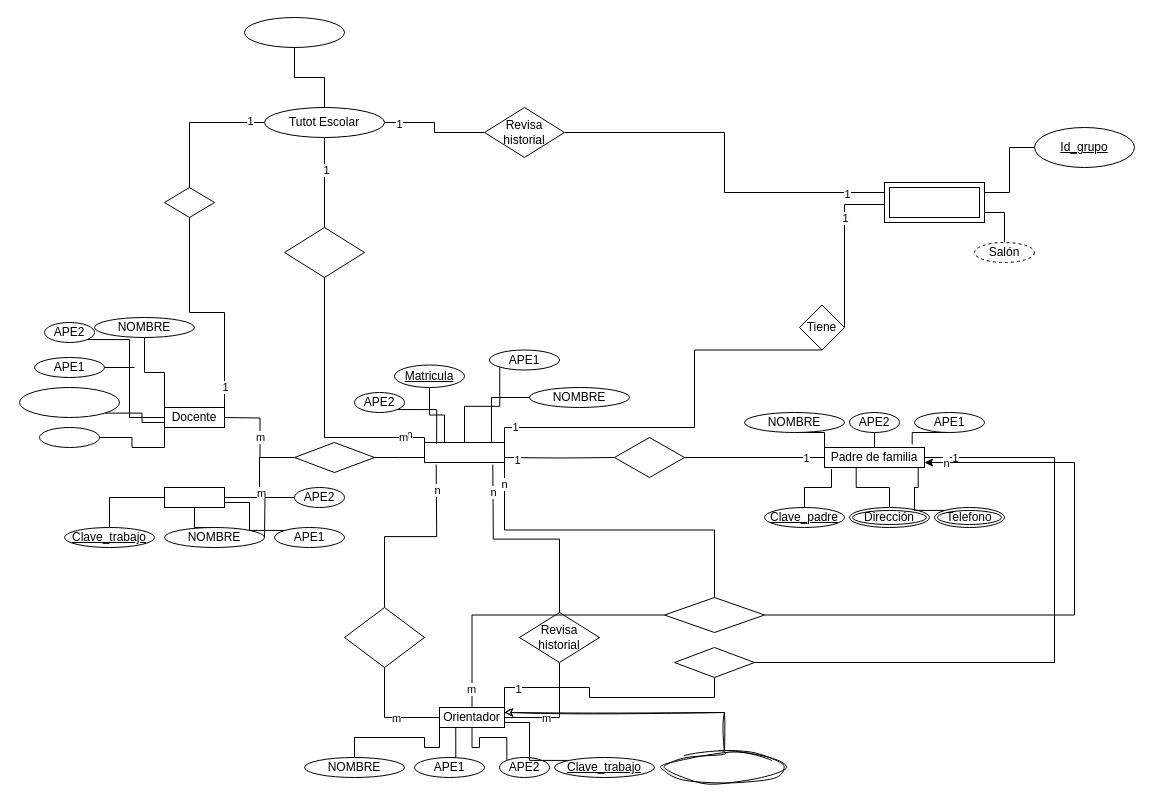
Some shapes in this 1152 by 800 pixel diagram are drawn without their labels. The centre of each missing label's shape, as x and y in pixels:
Alumno: point (464, 452)
Cita a: point (714, 662)
CLAVE_DOCENTE: point (69, 402)
CONTRASEÑA: point (724, 767)
correo: point (69, 437)
Es: point (189, 202)
Grupo: point (934, 202)
Id_tutor: point (294, 32)
Manda avisos: point (714, 614)
Perfecto: point (194, 497)
Recibe reporte del: point (384, 637)
Reporta: point (334, 457)
Revisa Reporte: point (324, 252)
Visualiza reporte del: point (649, 457)
